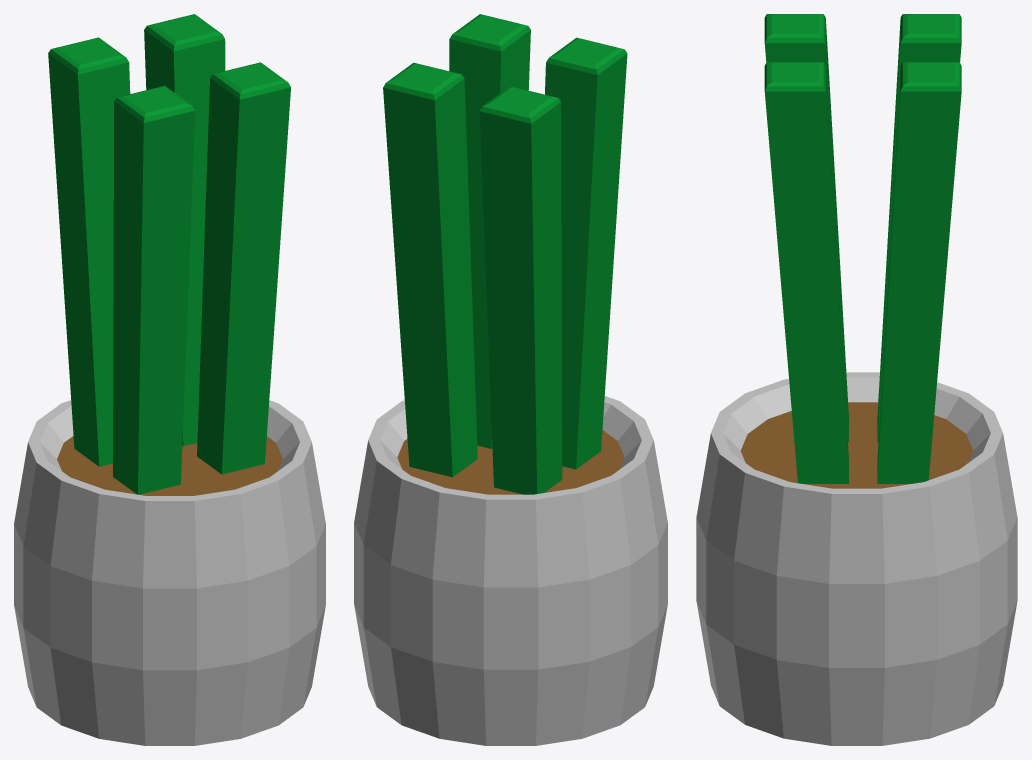
File: Tree Pot_4.fbx
3 renders of one model, left to right at view 1: azimuth 30°, elevation 25°; view 2: azimuth 150°, elevation 25°; view 3: azimuth 270°, elevation 25°, orthographic. The views are drawn at different scales.
Parts seen in each view (by area): view 1: Tree Pot_4; view 2: Tree Pot_4; view 3: Tree Pot_4.
Boxes of the visible parts, bbox=[...] form: Tree Pot_4: bbox=[14, 14, 325, 745]; Tree Pot_4: bbox=[354, 14, 667, 745]; Tree Pot_4: bbox=[696, 14, 1017, 745].
Size of the model in its own units: 0.1468 by 0.3271 by 0.1491.
